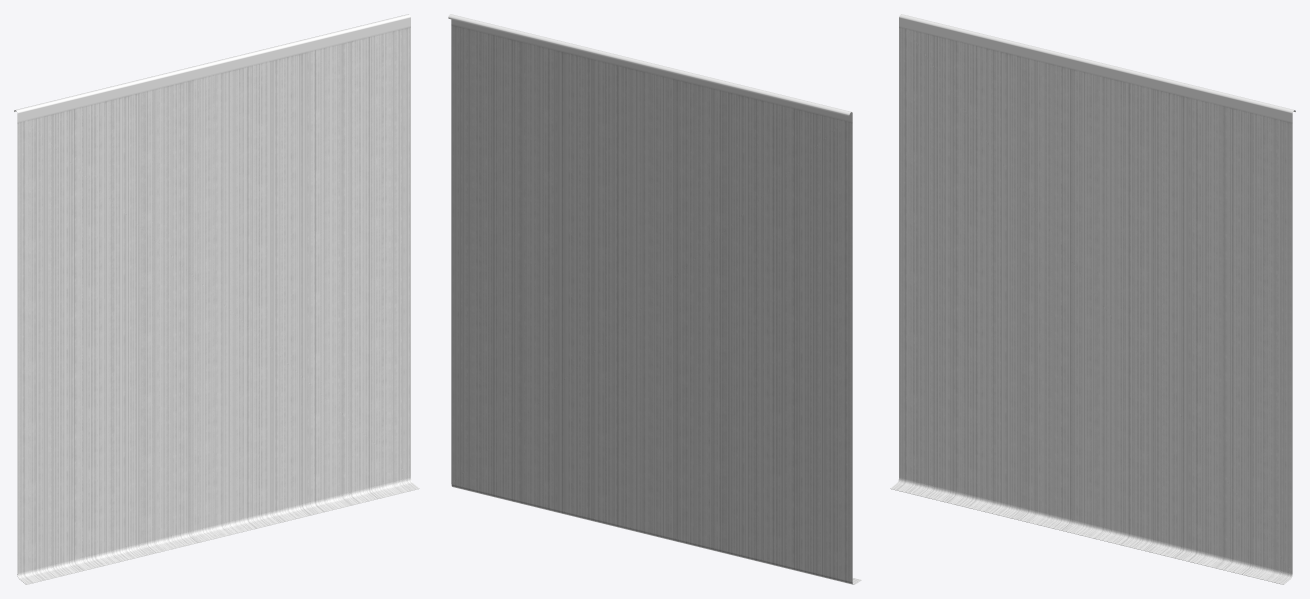
The model's file is PartyBackdrop02_1.FBX.
3 renders of one model, left to right at view 1: azimuth 30°, elevation 25°; view 2: azimuth 150°, elevation 25°; view 3: azimuth 330°, elevation 25°, orthographic.
Visible parts, largest first — view 1: PartyBackdrop02_1; view 2: PartyBackdrop02_1; view 3: PartyBackdrop02_1.
Boxes of the visible parts, x1=… form: PartyBackdrop02_1: x1=14, y1=14, x2=419, y2=584; PartyBackdrop02_1: x1=448, y1=14, x2=861, y2=584; PartyBackdrop02_1: x1=890, y1=14, x2=1295, y2=584.
Size of what is drawn, in the model's own units: 3 by 3.4 by 0.1615.
